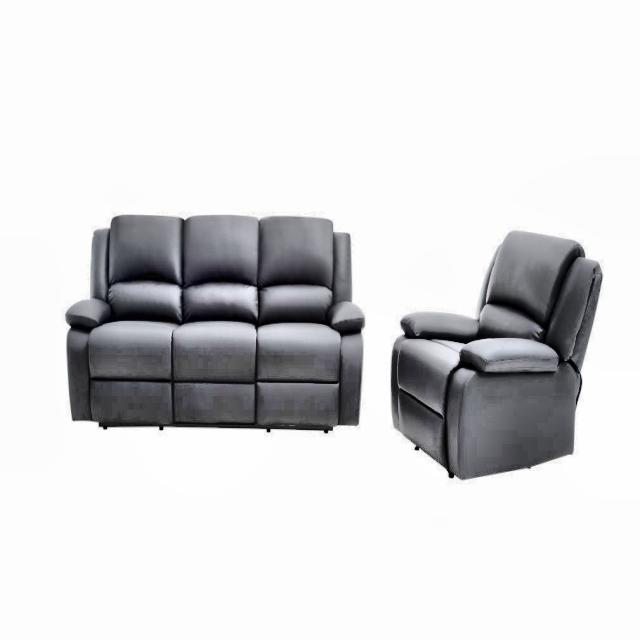sofa: (65, 212, 365, 433), (390, 229, 602, 480)
